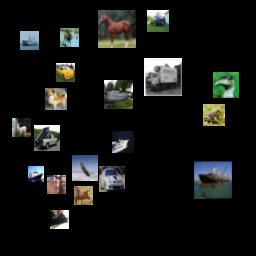airplane: (72, 155, 98, 181)
automobile: (99, 166, 125, 192), (147, 10, 169, 32), (56, 63, 75, 82)
bird: (213, 72, 239, 98)
cat: (50, 210, 69, 229)
deer: (12, 118, 31, 137), (74, 186, 93, 205), (60, 28, 79, 47)
dog: (45, 88, 67, 110)
frog: (203, 104, 225, 126)
ship: (194, 161, 232, 199), (104, 80, 133, 109), (112, 131, 134, 153), (20, 31, 39, 50), (28, 166, 44, 182)
truck: (144, 58, 182, 96), (34, 125, 60, 151)
